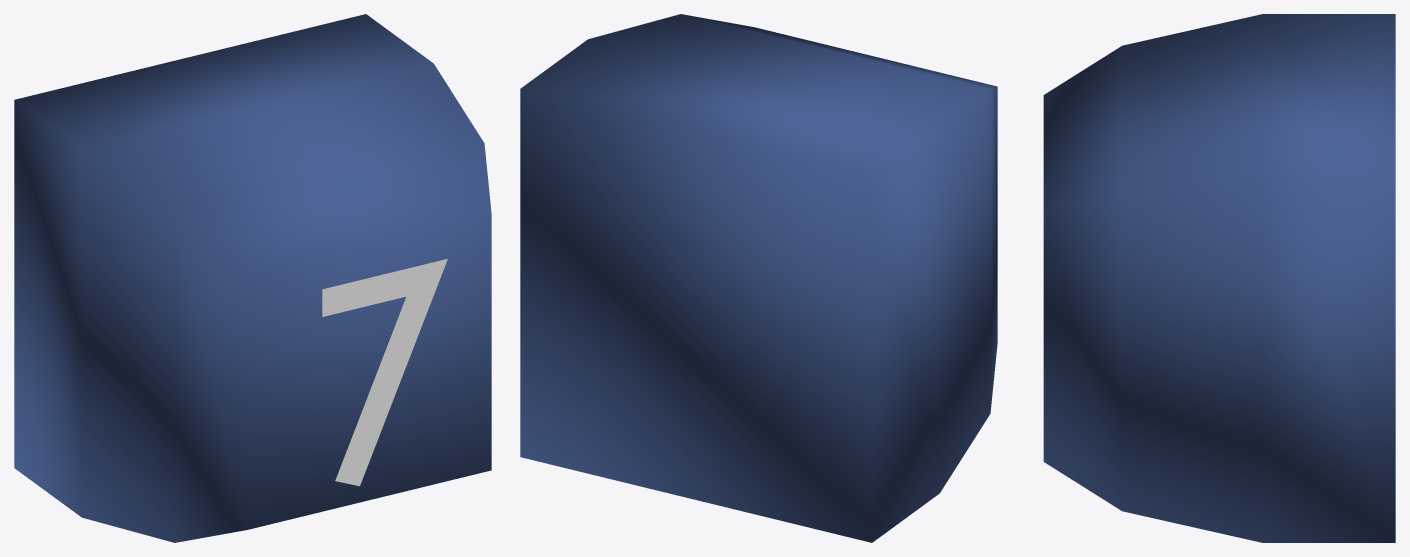
The model's file is lockbutton7.glb.
3 renders of one model, left to right at view 1: azimuth 30°, elevation 25°; view 2: azimuth 150°, elevation 25°; view 3: azimuth 270°, elevation 25°, orthographic. The views are drawn at different scales.
Visible parts, largest first — view 1: Text.006; view 2: Text.006; view 3: Text.006.
Part boxes in pixels (box(x1,y1,x2,y2)): Text.006: box(14, 14, 491, 542); Text.006: box(520, 14, 997, 542); Text.006: box(1043, 14, 1395, 542).
Size of the model in its own units: 0.0488 by 0.0488 by 0.0452.
